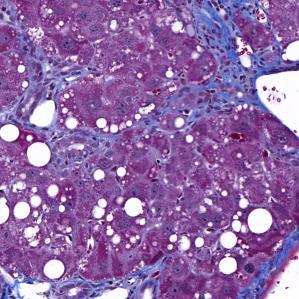fibrosis: (190, 8, 262, 110)
